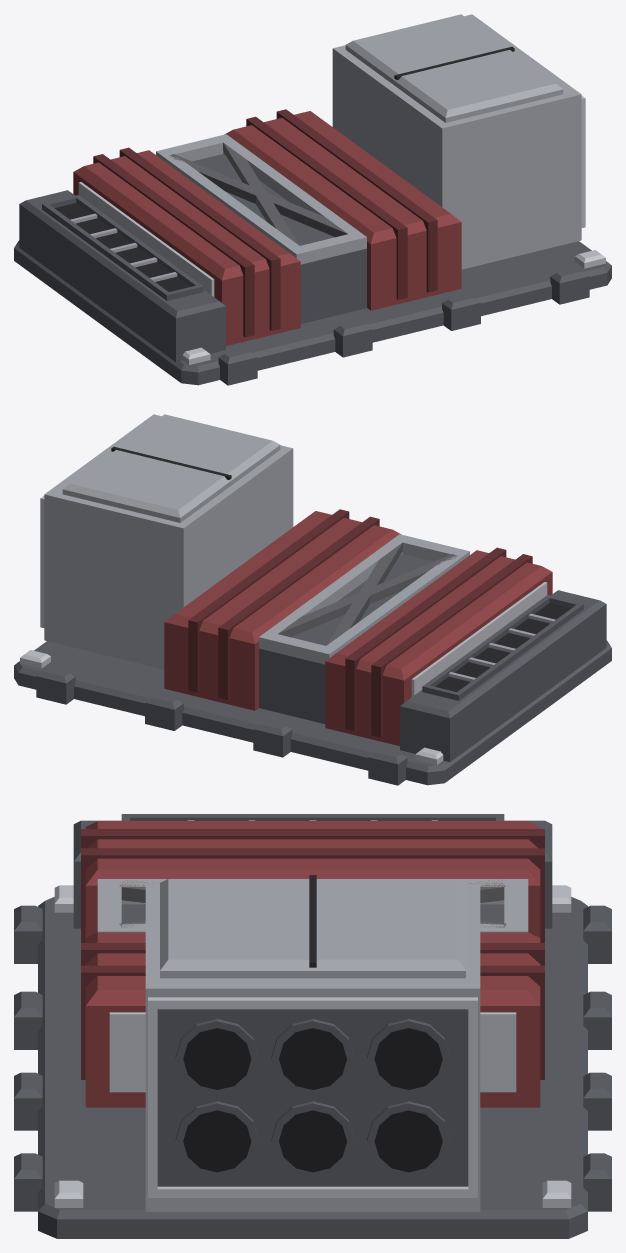
Rendered from vge_gun_javelin_pod.obj.
The picture shows the model from 3 angles, top to bottom: view 1: azimuth 30°, elevation 25°; view 2: azimuth 150°, elevation 25°; view 3: azimuth 270°, elevation 25°; orthographic projection. The views are drawn at different scales.
Parts seen in each view (by area): view 1: vge_gun_javelin_pod_58, vge_gun_javelin_pod_83, vge_gun_javelin_pod_2, vge_gun_javelin_pod_46, vge_gun_javelin_pod_27, vge_gun_javelin_pod_40, vge_gun_javelin_pod_1, vge_gun_javelin_pod_51, vge_gun_javelin_pod_45, vge_gun_javelin_pod_39, vge_gun_javelin_pod_28, vge_gun_javelin_pod_47 (+19 smaller); view 2: vge_gun_javelin_pod_58, vge_gun_javelin_pod_83, vge_gun_javelin_pod_2, vge_gun_javelin_pod_46, vge_gun_javelin_pod_27, vge_gun_javelin_pod_40, vge_gun_javelin_pod_1, vge_gun_javelin_pod_51, vge_gun_javelin_pod_45, vge_gun_javelin_pod_39, vge_gun_javelin_pod_28, vge_gun_javelin_pod_47 (+19 smaller); view 3: vge_gun_javelin_pod_2, vge_gun_javelin_pod_83, vge_gun_javelin_pod_59, vge_gun_javelin_pod_40, vge_gun_javelin_pod_58, vge_gun_javelin_pod_1, vge_gun_javelin_pod_45, vge_gun_javelin_pod_46, vge_gun_javelin_pod_42, vge_gun_javelin_pod_50, vge_gun_javelin_pod_41, vge_gun_javelin_pod_67 (+43 smaller).
Boxes of the visible parts, x1,y1,x2,y2 form: vge_gun_javelin_pod_58: (332,14,581,269); vge_gun_javelin_pod_83: (346,14,562,117); vge_gun_javelin_pod_2: (14,240,611,372); vge_gun_javelin_pod_46: (224,111,461,244); vge_gun_javelin_pod_27: (19,204,225,362); vge_gun_javelin_pod_40: (74,150,300,280); vge_gun_javelin_pod_1: (14,248,611,385); vge_gun_javelin_pod_51: (192,154,366,323); vge_gun_javelin_pod_45: (367,222,461,310); vge_gun_javelin_pod_39: (73,172,300,345); vge_gun_javelin_pod_28: (20,190,225,318); vge_gun_javelin_pod_47: (246,116,407,299); vge_gun_javelin_pod_58: (44,414,293,669); vge_gun_javelin_pod_83: (63,414,279,517); vge_gun_javelin_pod_2: (14,640,611,772); vge_gun_javelin_pod_46: (164,511,401,644); vge_gun_javelin_pod_27: (400,604,606,762); vge_gun_javelin_pod_40: (325,550,551,680); vge_gun_javelin_pod_1: (14,648,611,785); vge_gun_javelin_pod_51: (259,554,433,723); vge_gun_javelin_pod_45: (164,622,258,710); vge_gun_javelin_pod_39: (325,572,552,745); vge_gun_javelin_pod_28: (400,590,605,718); vge_gun_javelin_pod_47: (218,516,379,699); vge_gun_javelin_pod_2: (38,897,587,1219); vge_gun_javelin_pod_83: (160,879,465,970); vge_gun_javelin_pod_59: (157,1009,468,1186); vge_gun_javelin_pod_40: (85,821,540,885); vge_gun_javelin_pod_58: (145,884,480,1211); vge_gun_javelin_pod_1: (38,1211,587,1238); vge_gun_javelin_pod_45: (85,1006,540,1107); vge_gun_javelin_pod_46: (85,932,540,1005); vge_gun_javelin_pod_42: (81,848,544,942); vge_gun_javelin_pod_50: (109,1012,516,1092); vge_gun_javelin_pod_41: (81,829,544,848); vge_gun_javelin_pod_67: (148,997,477,1009).
Size of the model in its own units: 3.2 by 1.38 by 2.5.
